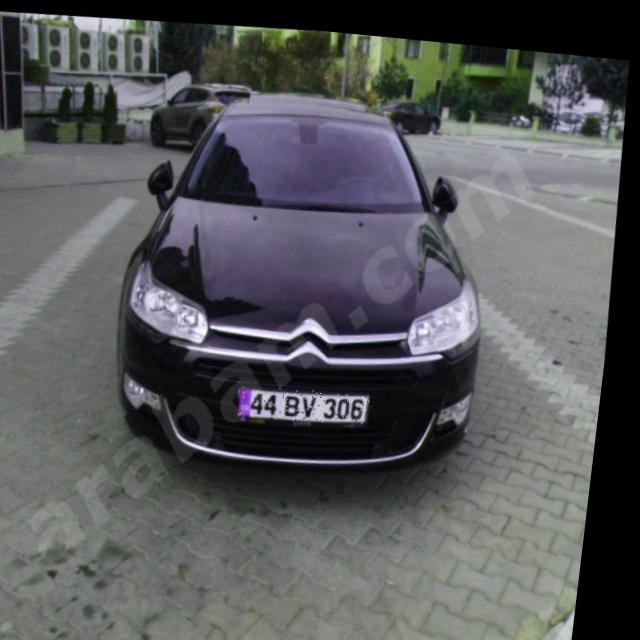license_plate: (245, 375, 379, 421)
